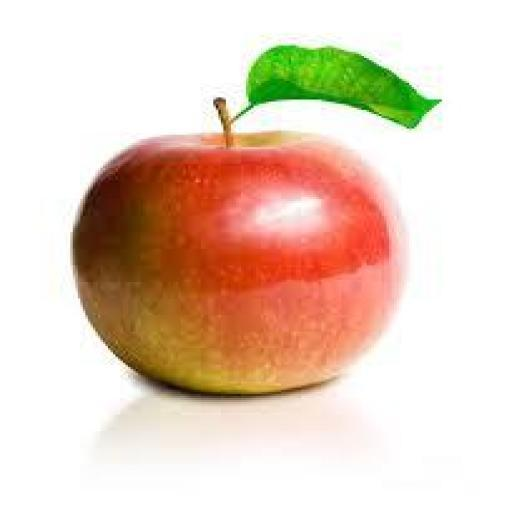apple: (73, 133, 404, 393)
